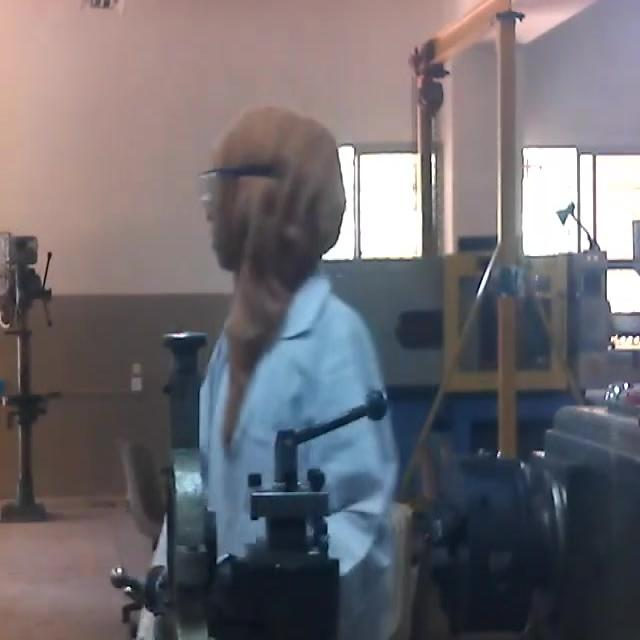googles: (186, 158, 242, 207)
labcoat: (144, 260, 401, 640)
